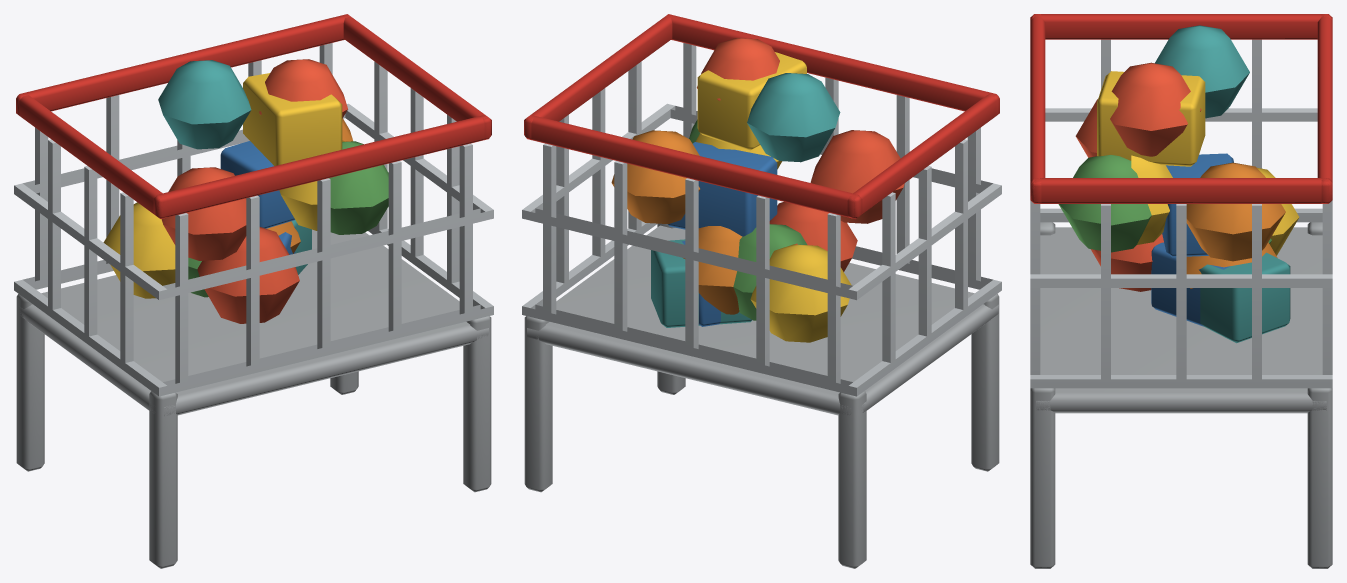
Rendered from DumpBin_Wire_01_Stocked.glb.
3 views of the same model, side by side, from view 1: azimuth 30°, elevation 25°; view 2: azimuth 150°, elevation 25°; view 3: azimuth 270°, elevation 25° (orthographic). The views are drawn at different scales.
Visible parts, largest first — view 1: SM_DumpBin_Wire_01_Stocked; view 2: SM_DumpBin_Wire_01_Stocked; view 3: SM_DumpBin_Wire_01_Stocked.
Boxes of the visible parts, bbox=[...] form: SM_DumpBin_Wire_01_Stocked: bbox=[14, 14, 493, 568]; SM_DumpBin_Wire_01_Stocked: bbox=[522, 14, 1001, 568]; SM_DumpBin_Wire_01_Stocked: bbox=[1030, 14, 1332, 568].
Bounding box in the file's own units: 0.8 × 0.96 × 0.6.
1 material, 1 textured.
